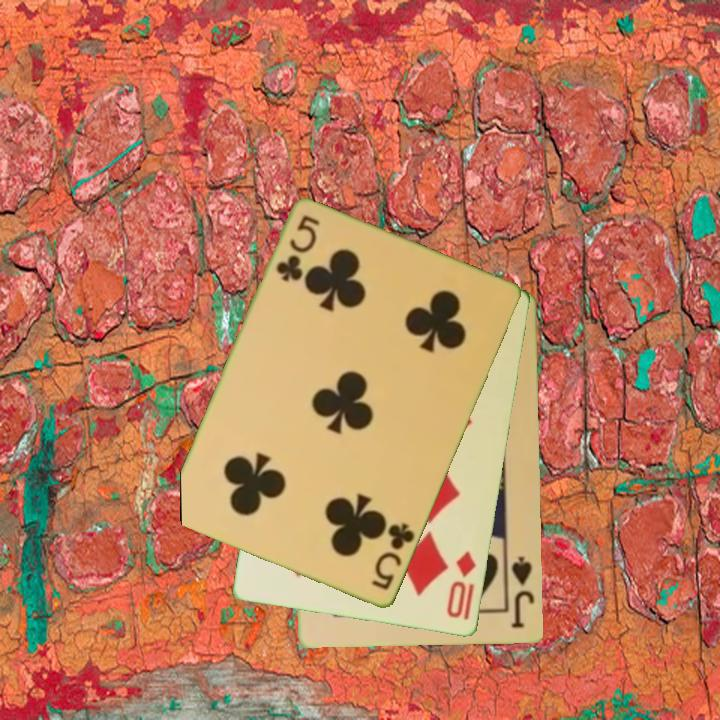10d: (443, 548, 479, 622)
5c: (368, 520, 418, 594), (273, 212, 323, 286)
Js: (508, 553, 538, 631)
